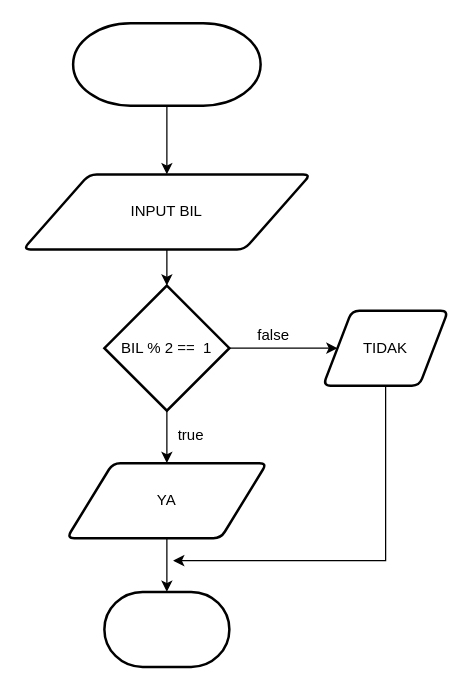
The diagram is 470 pixels wide and 689 high, and some of its shapes have lost their labels. The shapes that lost their labels are listed below. From the top down, each one's box as (x1, y1, x2, y2) in pixels, then its label:
(71, 21, 261, 106): START
(102, 590, 230, 668): FINISH
